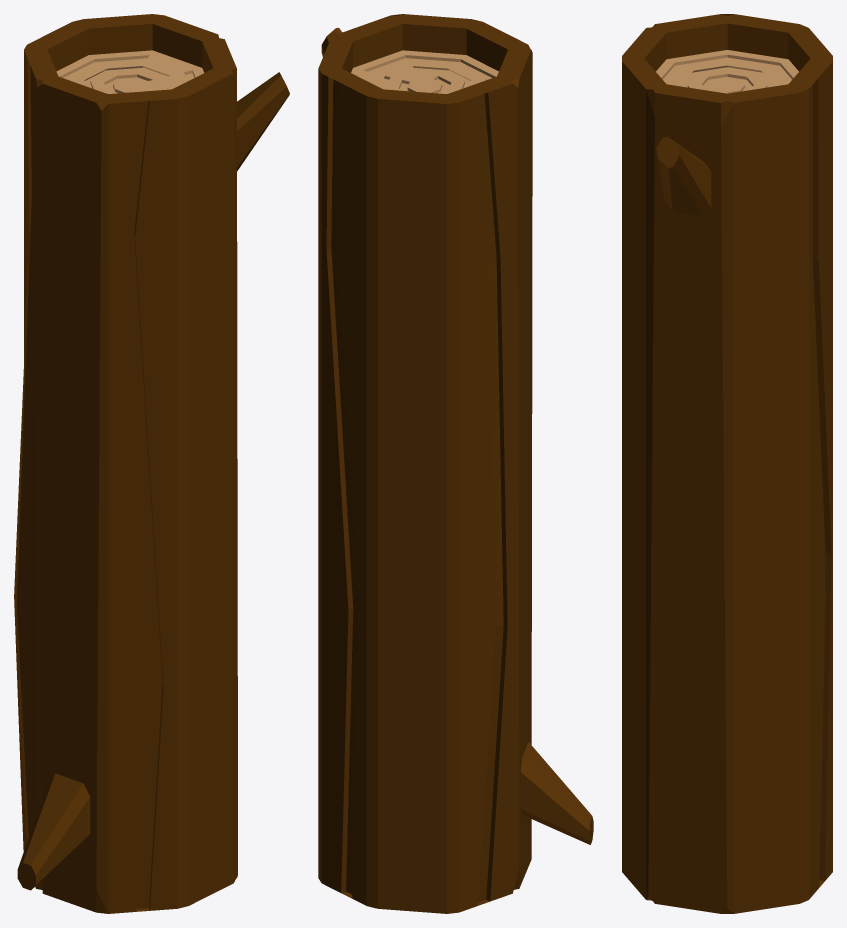
File: LOG.fbx
3 renders of one model, left to right at view 1: azimuth 30°, elevation 25°; view 2: azimuth 150°, elevation 25°; view 3: azimuth 270°, elevation 25°, orthographic.
Parts seen in each view (by area): view 1: Plane, Plane.002; view 2: Plane, Plane.002; view 3: Plane, Plane.002.
Part boxes in pixels (bbox=[...]): Plane: bbox=[14, 14, 289, 913]; Plane.002: bbox=[56, 50, 204, 93]; Plane: bbox=[318, 14, 593, 913]; Plane.002: bbox=[351, 50, 498, 93]; Plane: bbox=[622, 14, 832, 913]; Plane.002: bbox=[656, 50, 798, 93].
Size of the model in its own units: 264 by 761 by 179.
